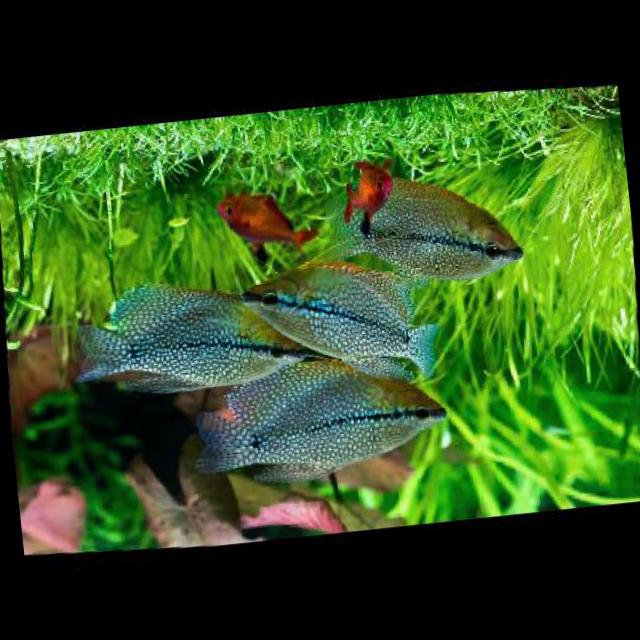Gourami: (185, 354, 452, 494), (65, 274, 306, 404), (236, 254, 442, 397), (318, 166, 527, 302)
